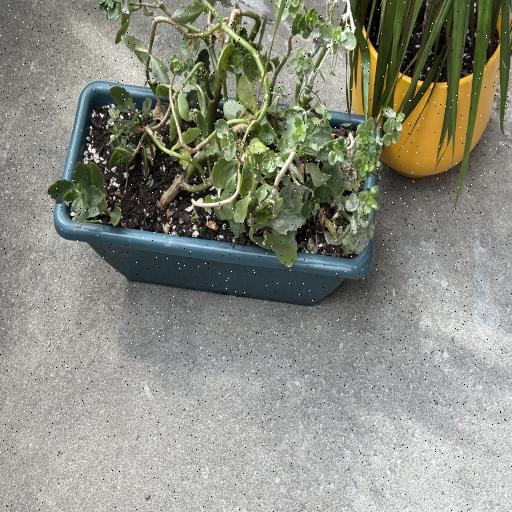Plant Pot: (354, 1, 508, 179)
